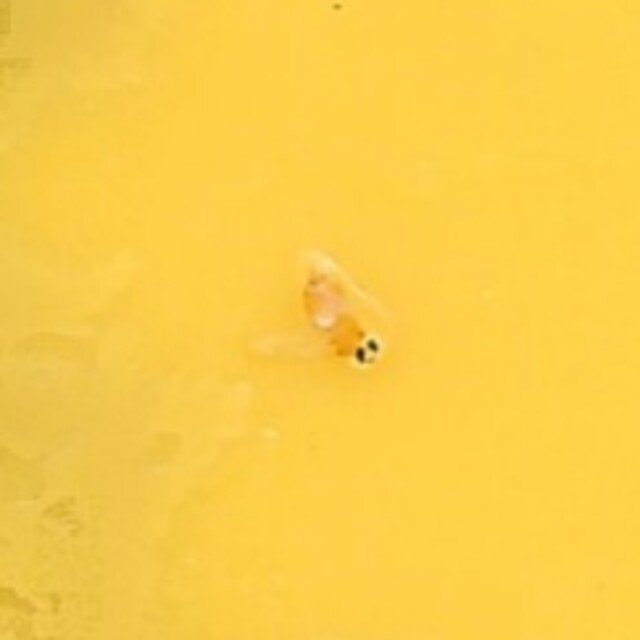Nematocera: (263, 263, 377, 377)
